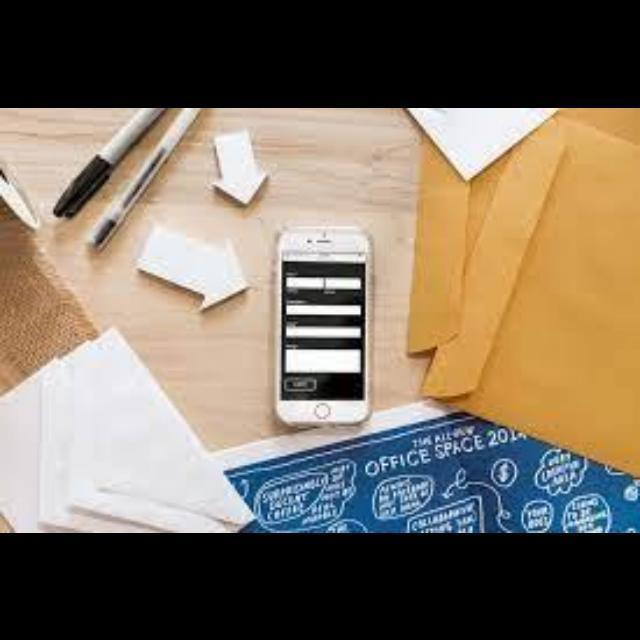phone: (280, 232, 368, 416)
